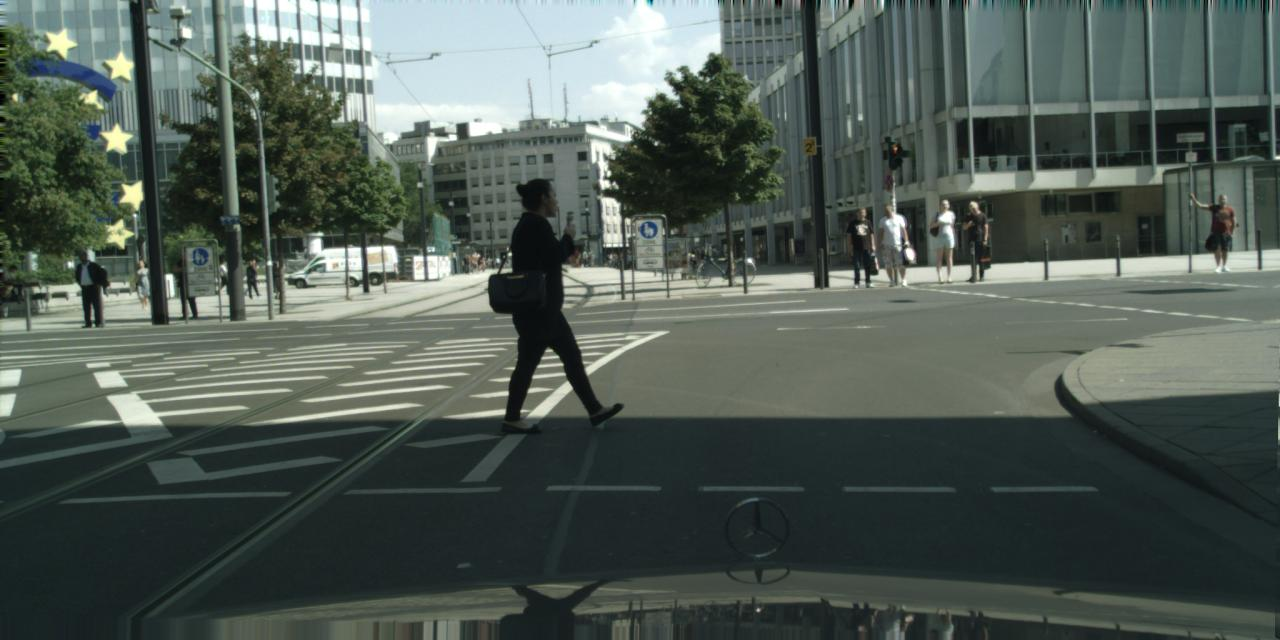ped: (499, 178, 601, 428), (874, 202, 909, 286), (927, 198, 961, 282), (845, 206, 877, 287), (958, 200, 990, 280), (1206, 193, 1238, 272), (71, 252, 102, 328), (172, 260, 195, 318), (132, 259, 152, 311), (244, 260, 260, 297), (268, 260, 282, 298), (216, 256, 230, 292), (477, 257, 492, 274), (462, 253, 470, 273), (470, 251, 478, 270), (573, 248, 580, 266), (582, 248, 589, 266), (568, 250, 574, 266), (612, 254, 618, 268), (491, 258, 496, 268)
